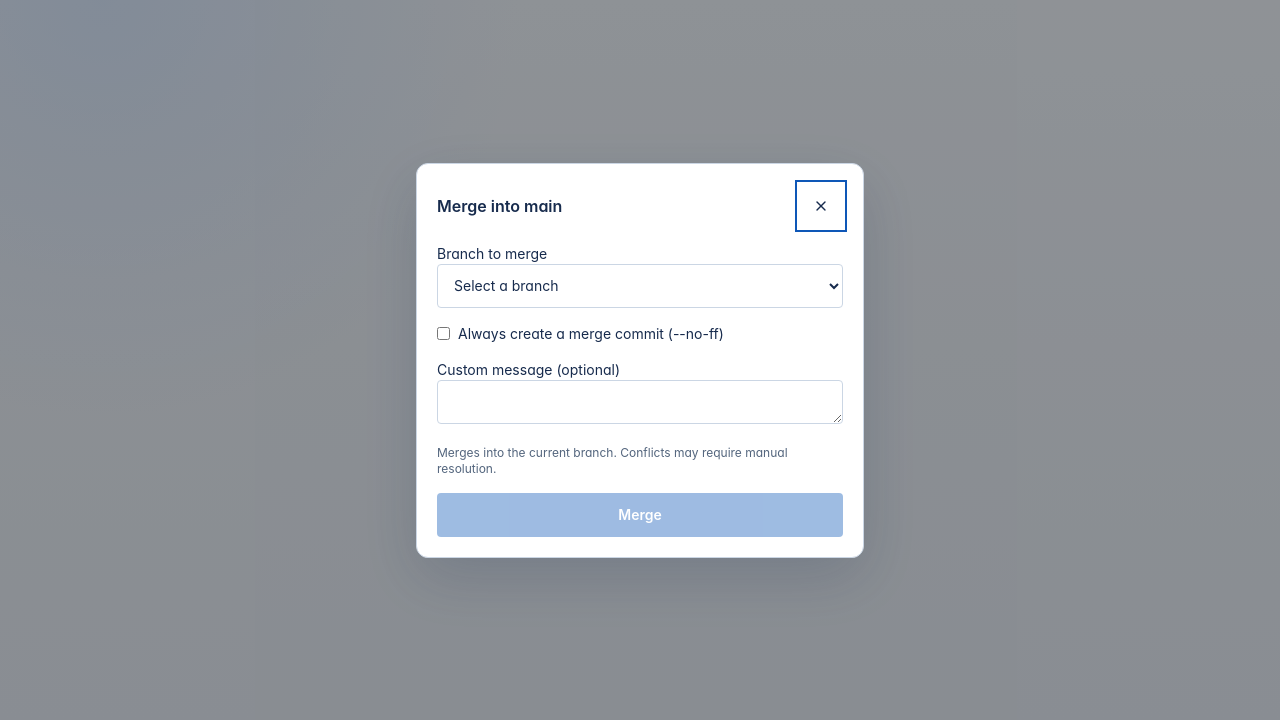
Test: Git Manager Frontend Components › 5. GitToolbar and Modals › submits merge options and exposes merge failures
The image size is (1280, 720).
Select "dev" in the dropdown labelled "Branch to merge" at (640,286), box [437,264,843,308]
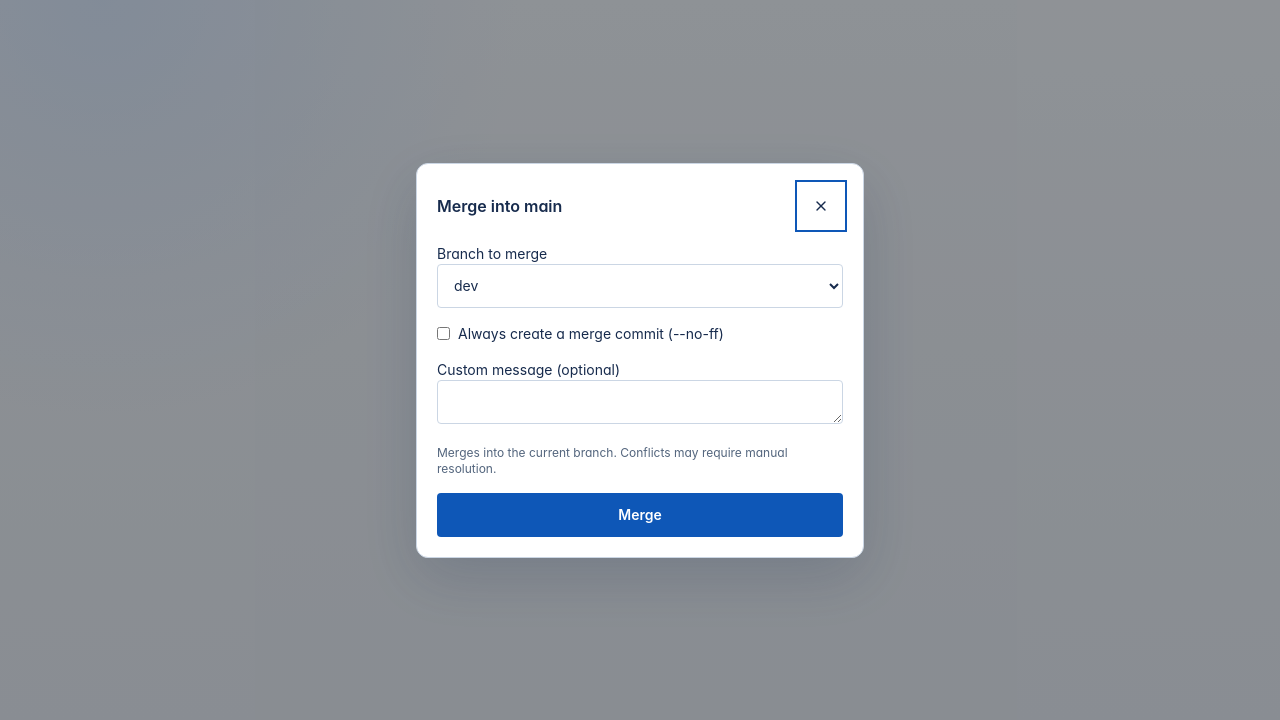
Click the checkbox labelled "Always create a merge commit (--no-ff)" at (444,334), box [437,327,450,340]
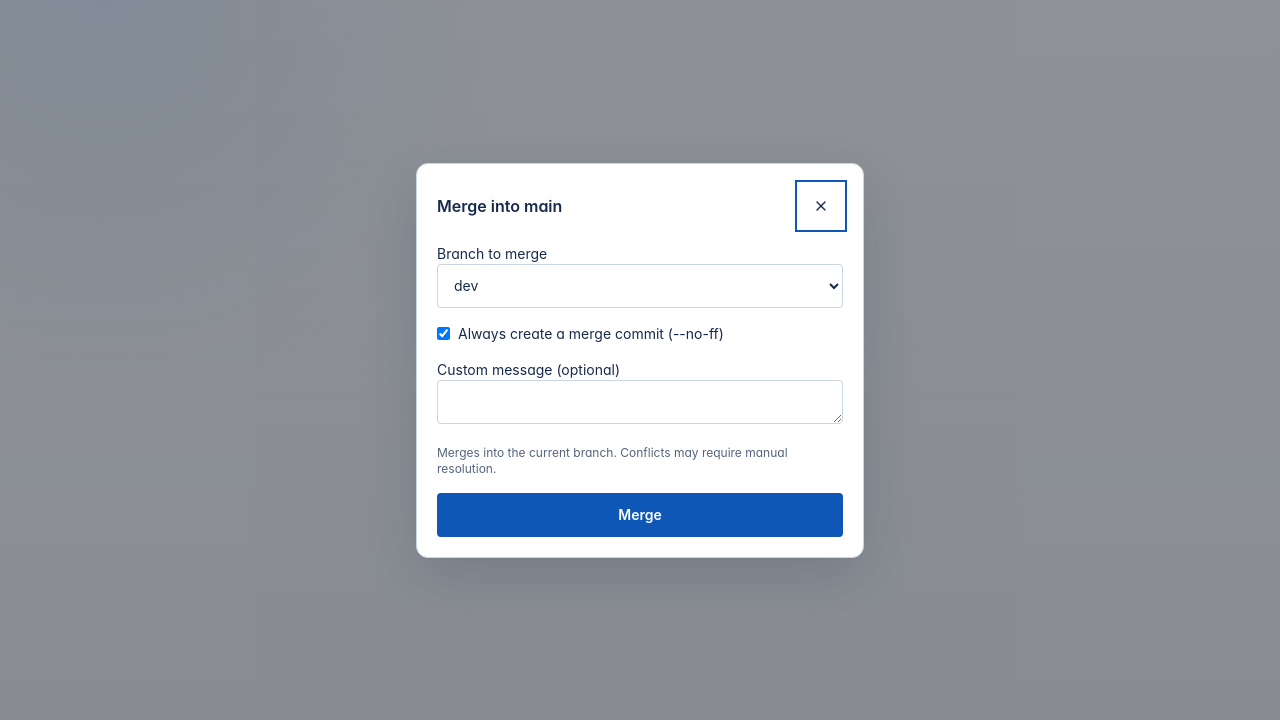
Type "Merge dev" into the text box labelled "Custom message (optional)" at (640,402), box [437,380,843,424]
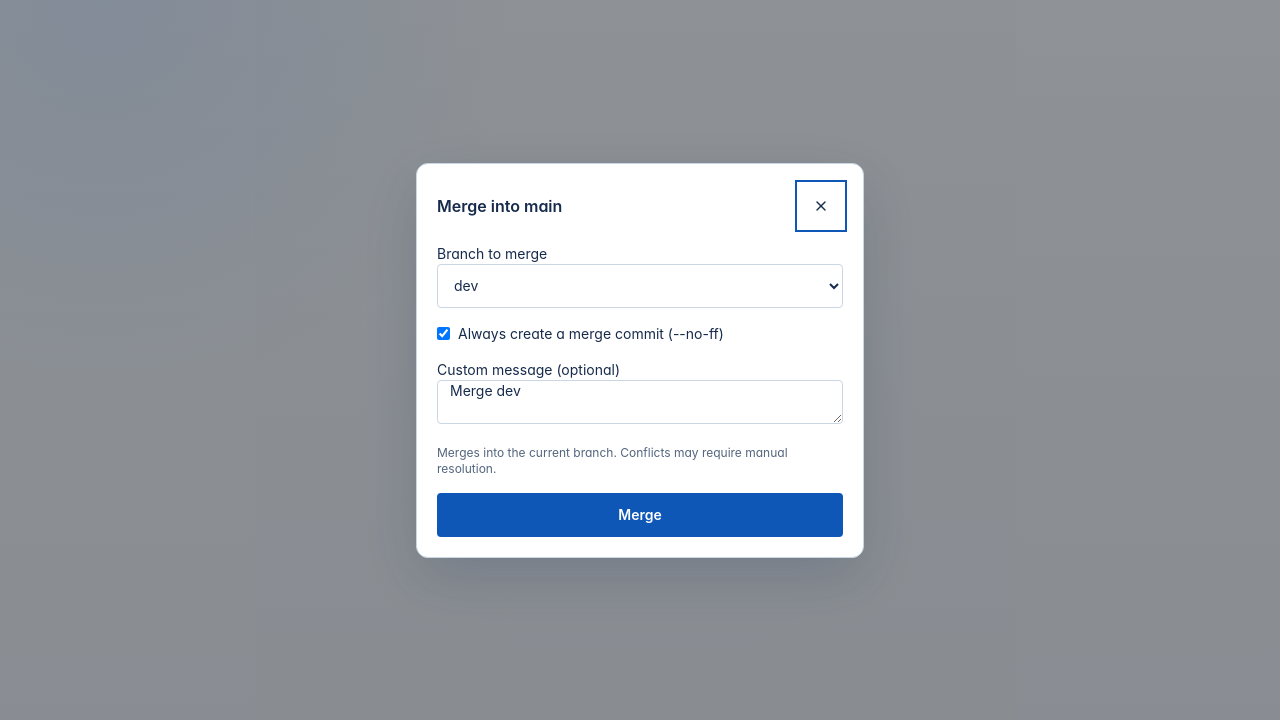
Click the button "Merge" at (640,514), box [437,492,843,536]
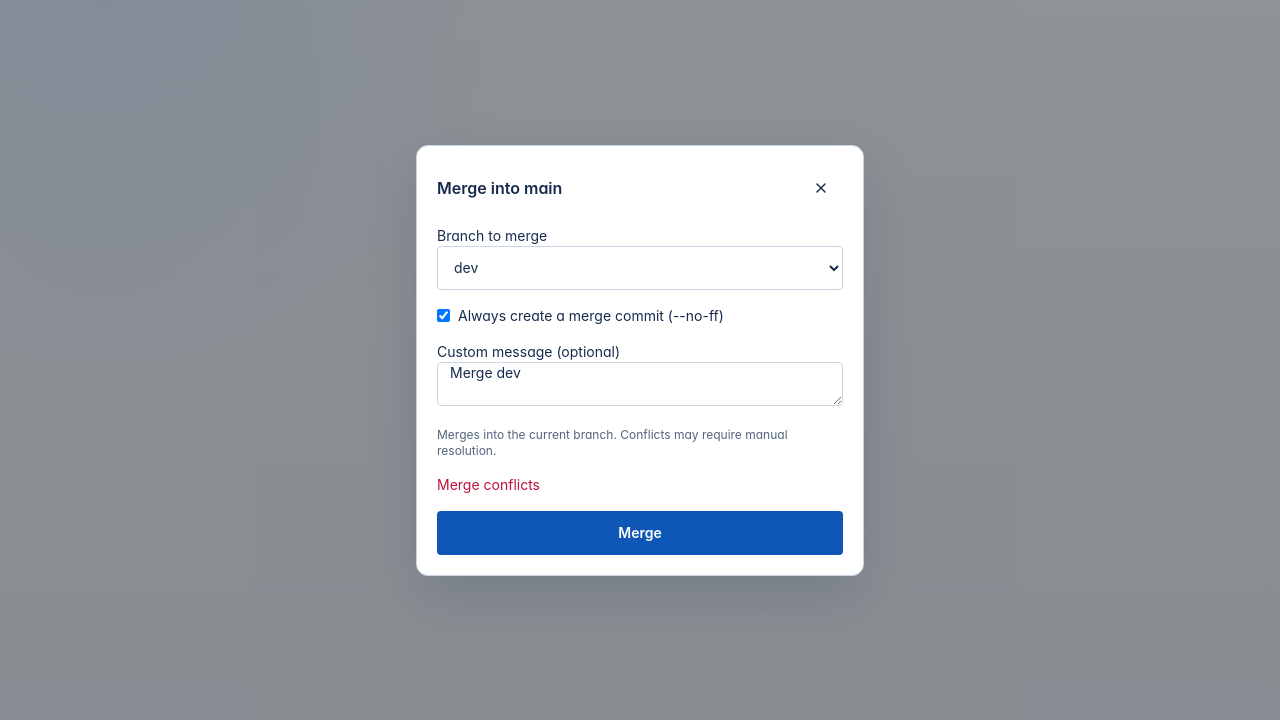
expect the message reads "Merge conflicts": met, box [437,476,540,492]
